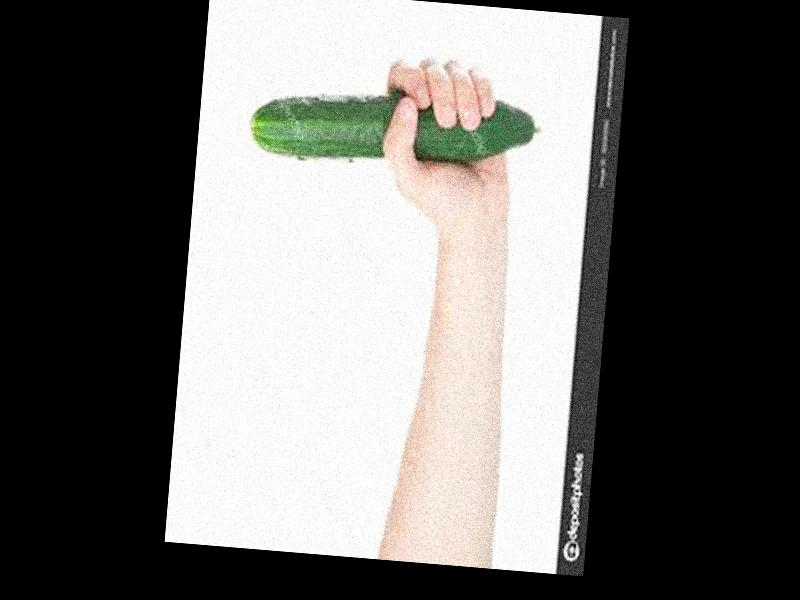Cucumber: (248, 80, 542, 177)
